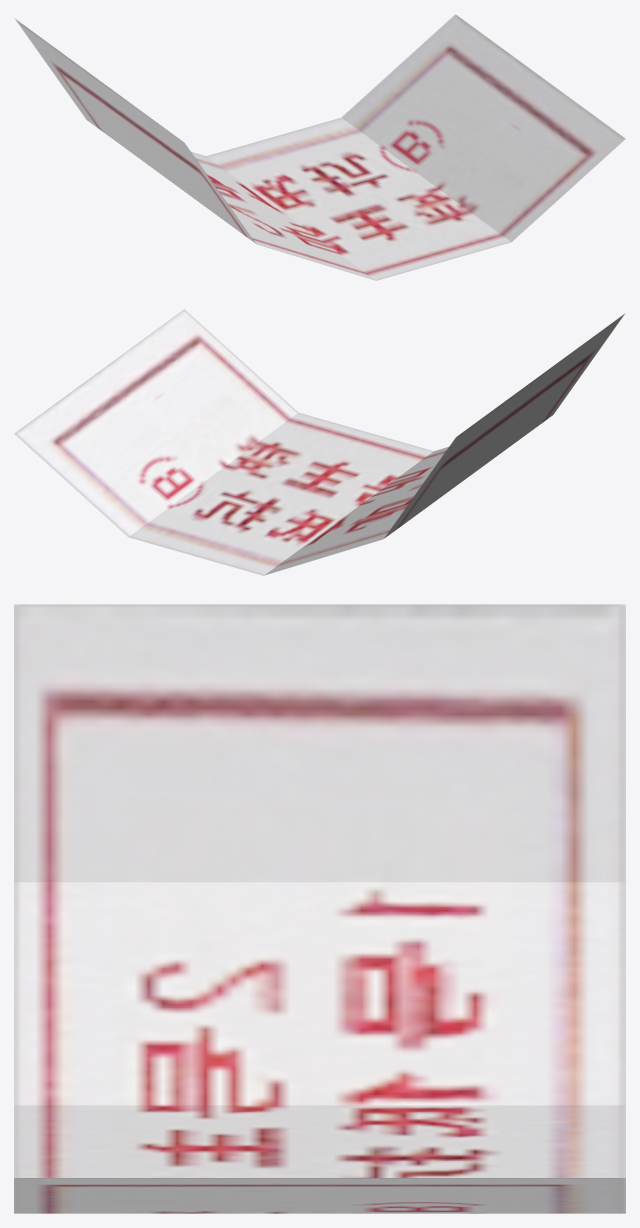
File: mp-0558-geode.glb
3 views of the same model, one above another, from view 1: azimuth 30°, elevation 25°; view 2: azimuth 150°, elevation 25°; view 3: azimuth 270°, elevation 25° (orthographic). The views are drawn at different scales.
Parts seen in each view (by area): view 1: Node; view 2: Node; view 3: Node.
Part boxes in pixels (left/top/right/bottom): Node: left=15, top=14, right=625, bottom=280; Node: left=14, top=309, right=624, bottom=575; Node: left=14, top=604, right=625, bottom=1213.
Size of the model in its own units: 0.2381 by 0.0955 by 0.1593.
1 material, 1 textured.
